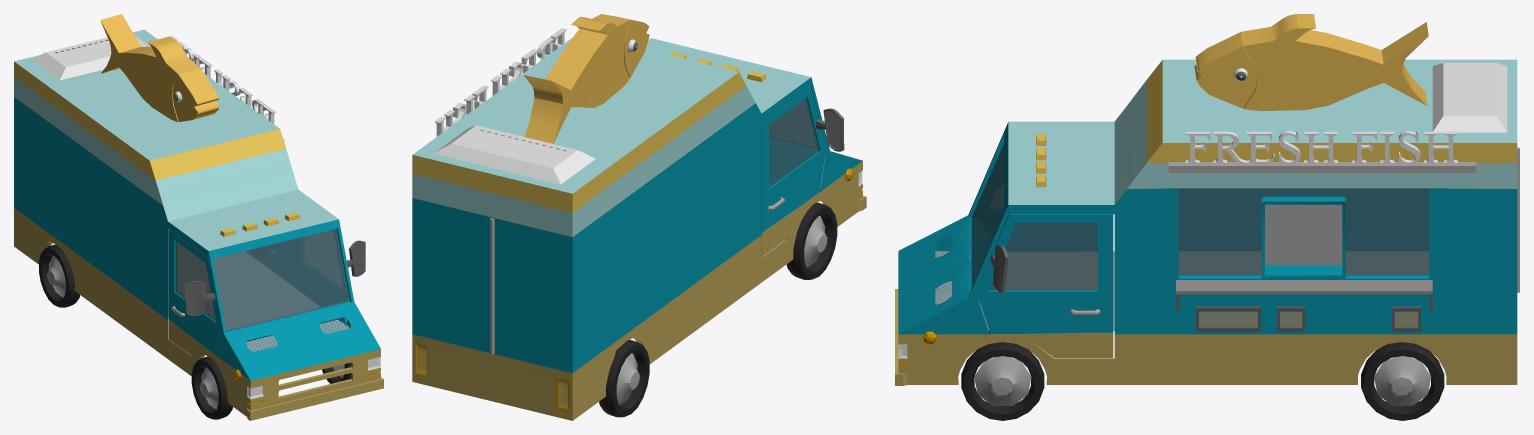
File: FISH.fbx
3 views of the same model, side by side, from view 1: azimuth 30°, elevation 25°; view 2: azimuth 150°, elevation 25°; view 3: azimuth 270°, elevation 25° (orthographic). The views are drawn at different scales.
Parts seen in each view (by area): view 1: curve11; view 2: curve11; view 3: curve11.
Boxes of the visible parts, bbox=[...] form: curve11: bbox=[14, 14, 383, 420]; curve11: bbox=[412, 14, 866, 420]; curve11: bbox=[895, 14, 1519, 420].
Size of the model in its own units: 2.78 by 4.03 by 6.34.
